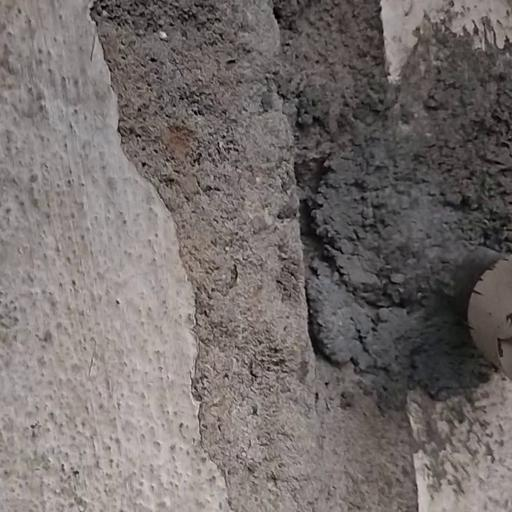spalling: (85, 2, 512, 512)
